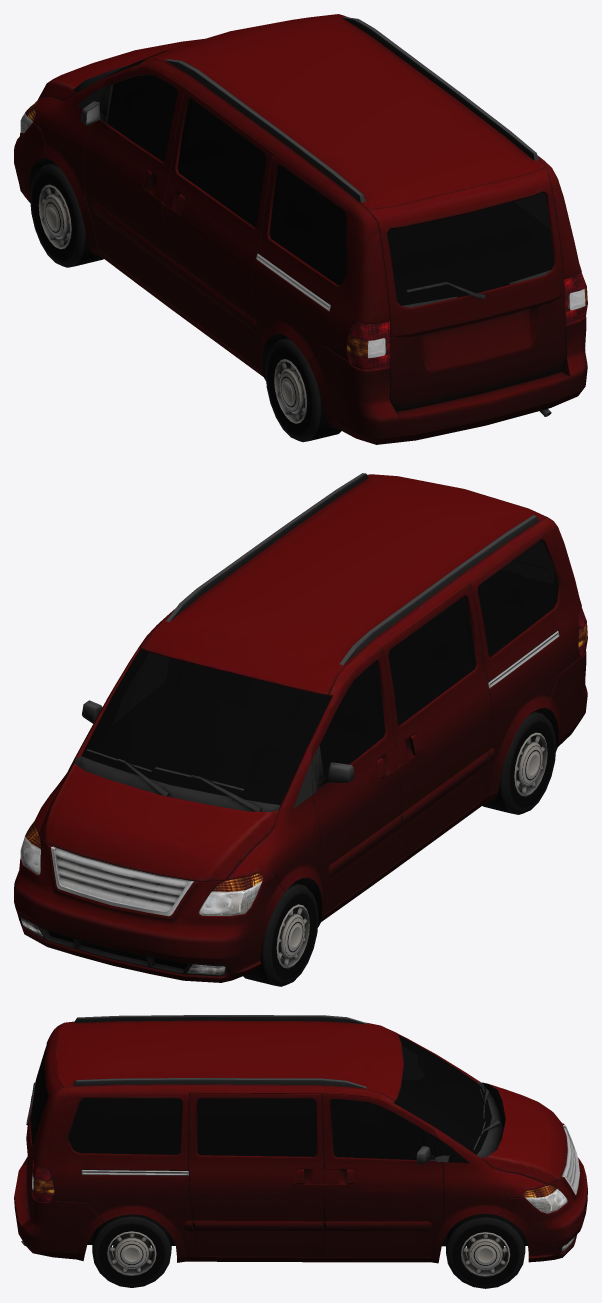
The model's file is car_minivan.glb.
The picture shows the model from 3 angles, top to bottom: view 1: azimuth 30°, elevation 25°; view 2: azimuth 150°, elevation 25°; view 3: azimuth 270°, elevation 25°; orthographic projection. The views are drawn at different scales.
Parts seen in each view (by area): view 1: minivan body_Body_0, minivan body_Glass_0, Wheel_D001_Wheel_0, Wheel_D_Wheel_0, minivan body_Optics_0; view 2: minivan body_Body_0, minivan body_Glass_0, Wheel_D_Wheel_0, Wheel_D001_Wheel_0, minivan body_Optics_0; view 3: minivan body_Body_0, minivan body_Glass_0, Wheel_D002_Wheel_0, Wheel_D003_Wheel_0, minivan body_Optics_0.
Boxes of the visible parts, box(x1,y1,x2,y2) form: minivan body_Body_0: box(14, 14, 587, 444); minivan body_Glass_0: box(106, 49, 554, 307); Wheel_D001_Wheel_0: box(265, 338, 341, 442); Wheel_D_Wheel_0: box(30, 163, 103, 267); minivan body_Optics_0: box(20, 100, 587, 370); minivan body_Body_0: box(14, 473, 587, 982); minivan body_Glass_0: box(81, 540, 558, 804); Wheel_D_Wheel_0: box(243, 883, 318, 986); Wheel_D001_Wheel_0: box(482, 711, 556, 814); minivan body_Optics_0: box(20, 607, 587, 973); minivan body_Body_0: box(14, 1015, 587, 1263); minivan body_Glass_0: box(30, 1035, 491, 1162); Wheel_D002_Wheel_0: box(446, 1213, 525, 1288); Wheel_D003_Wheel_0: box(92, 1214, 171, 1287); minivan body_Optics_0: box(31, 1160, 574, 1250).
Size of the model in its own units: 1.95 by 1.84 by 4.8.
4 materials, 3 textured.
